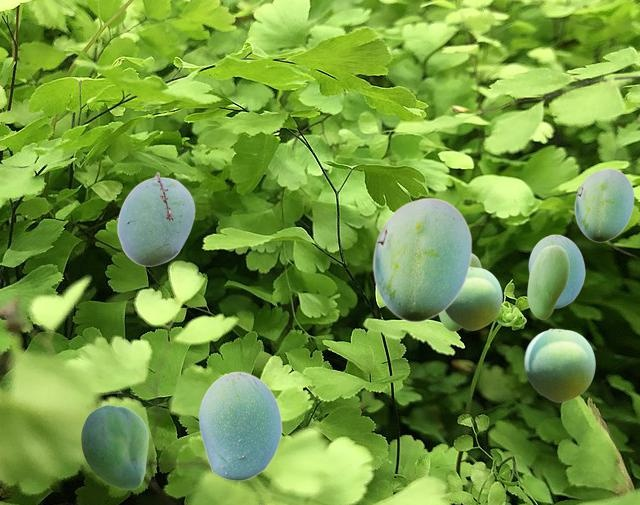green_mango: (372, 197, 471, 321), (198, 371, 281, 480), (117, 172, 194, 265), (81, 405, 147, 488), (524, 328, 594, 401), (574, 168, 633, 241), (528, 234, 584, 307), (445, 266, 501, 329), (438, 253, 481, 330), (527, 245, 568, 318)
